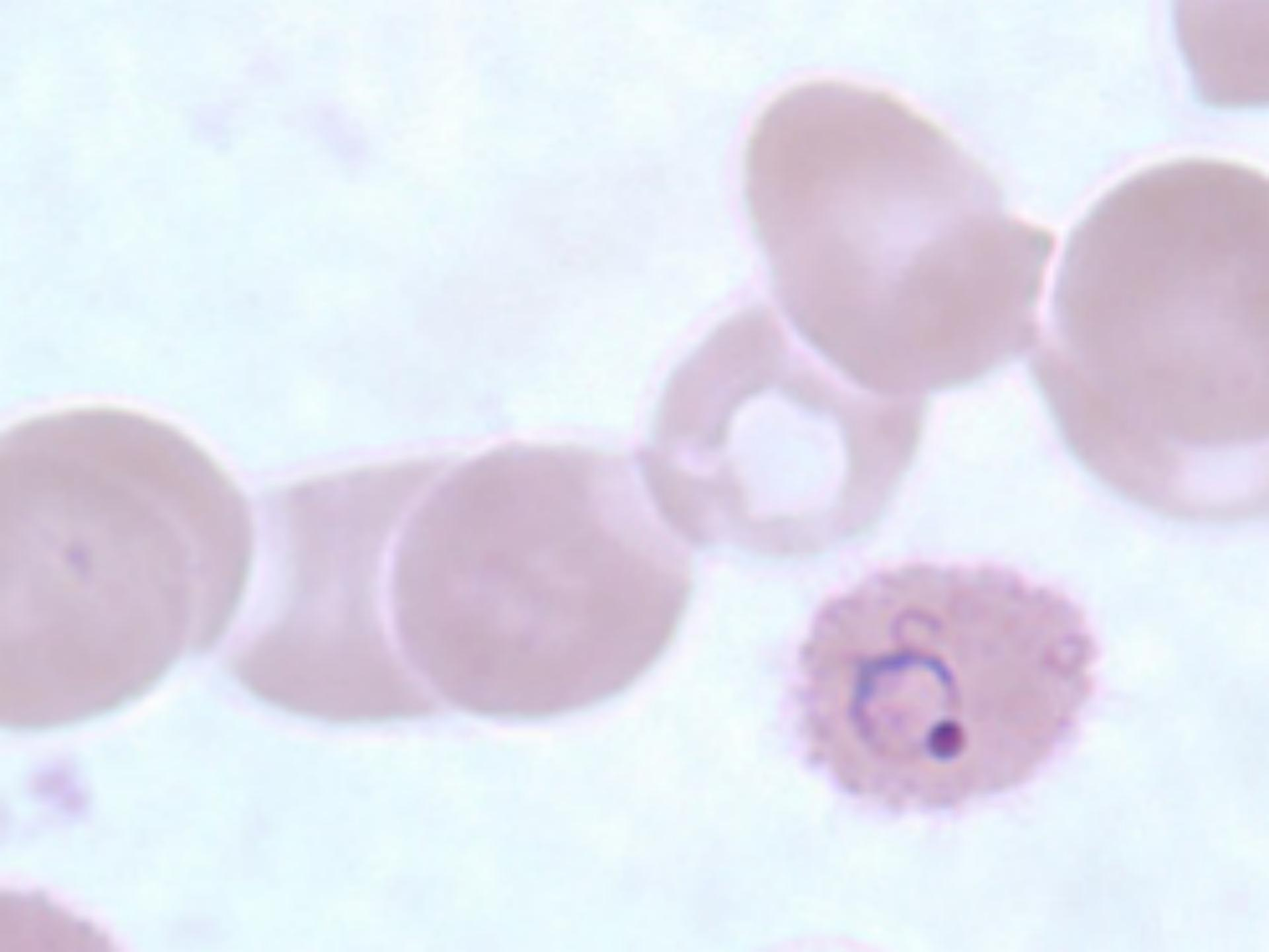Infected: (780, 556, 1087, 825)
Uninfected: (742, 84, 1043, 392), (388, 439, 689, 717), (1040, 151, 1269, 514), (4, 408, 248, 733), (639, 300, 917, 559), (203, 455, 473, 717)
